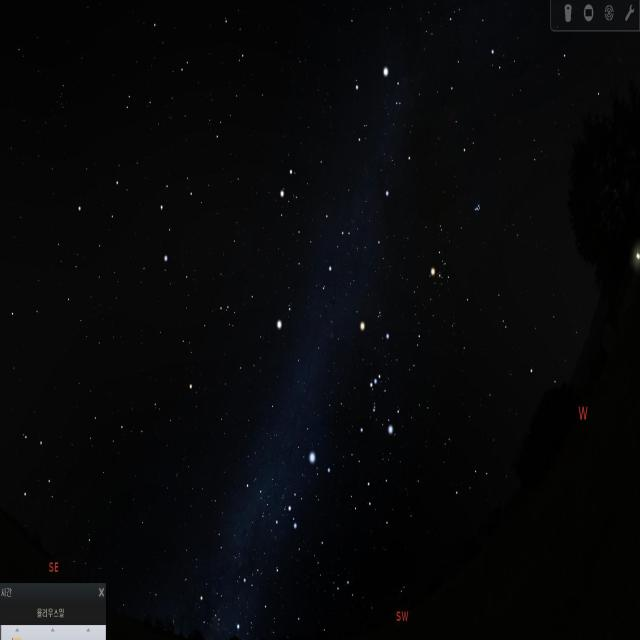canis_major: (286, 443, 334, 536)
canis_minor: (264, 290, 308, 356)
gemini: (265, 156, 353, 294)
leo: (75, 158, 209, 291)
orion: (357, 312, 401, 442)
pleiades: (469, 198, 488, 220)
taurus: (426, 165, 492, 312)
